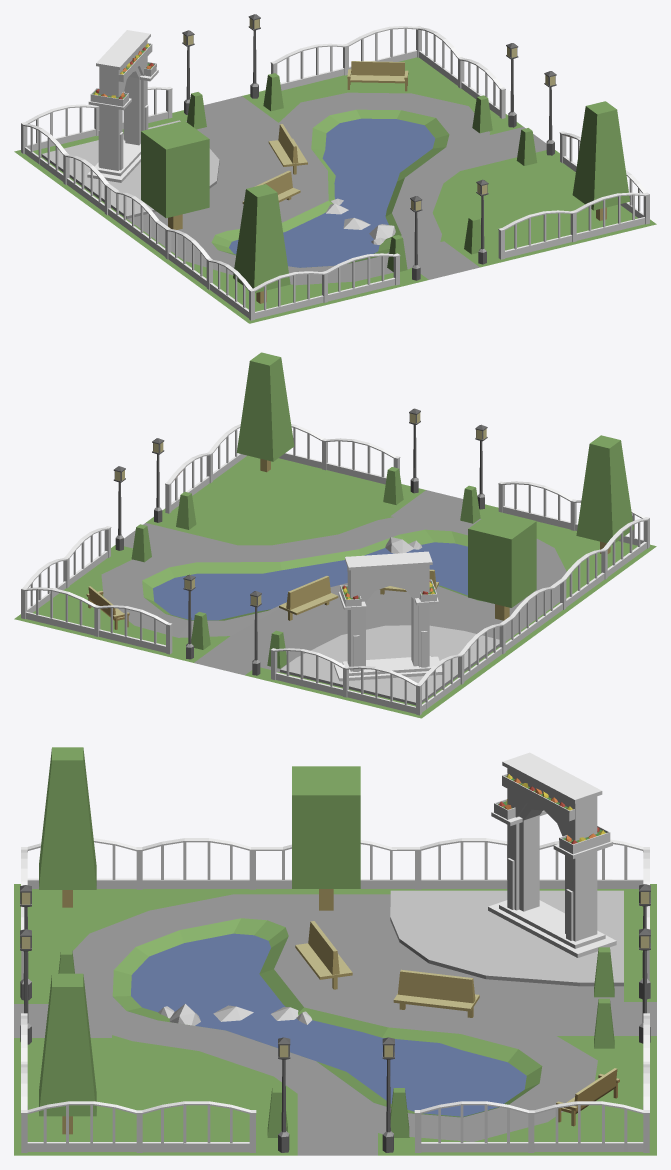
The model's file is park_004.fbx.
3 renders of one model, top to bottom at view 1: azimuth 30°, elevation 25°; view 2: azimuth 150°, elevation 25°; view 3: azimuth 270°, elevation 25°, orthographic. The views are drawn at different scales.
Parts seen in each view (by area): view 1: park_004; view 2: park_004; view 3: park_004.
Boxes of the visible parts, x1,y1,x2,y2 form: park_004: (14, 14, 656, 323); park_004: (14, 352, 656, 718); park_004: (14, 747, 656, 1155).
Size of the model in its own units: 1600 by 515 by 1600.
